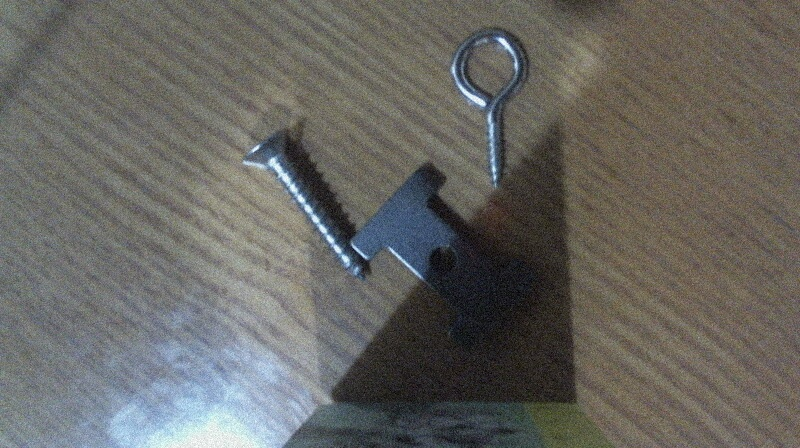O001: (445, 24, 534, 191)
O002: (348, 164, 542, 355)
S001: (236, 122, 371, 285)
